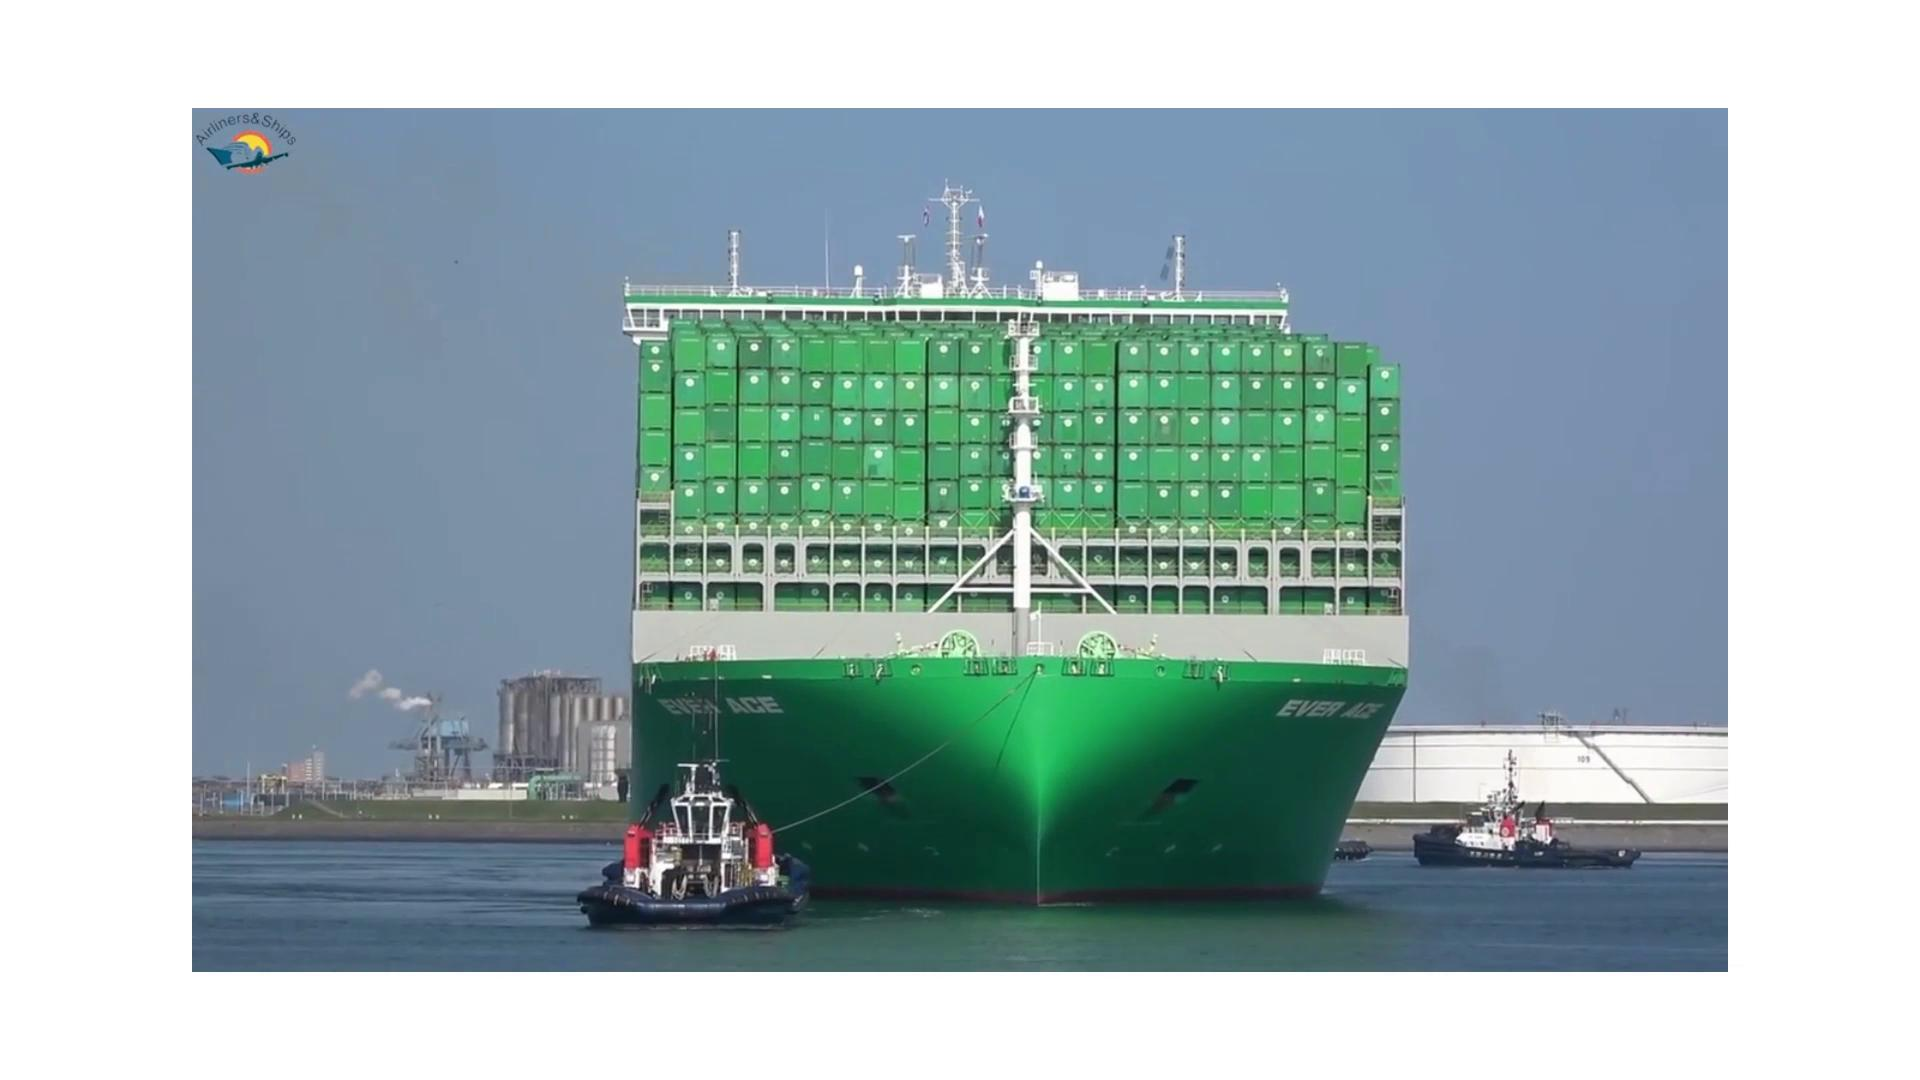OCR: (1263, 676, 1403, 744), (638, 683, 798, 729)
